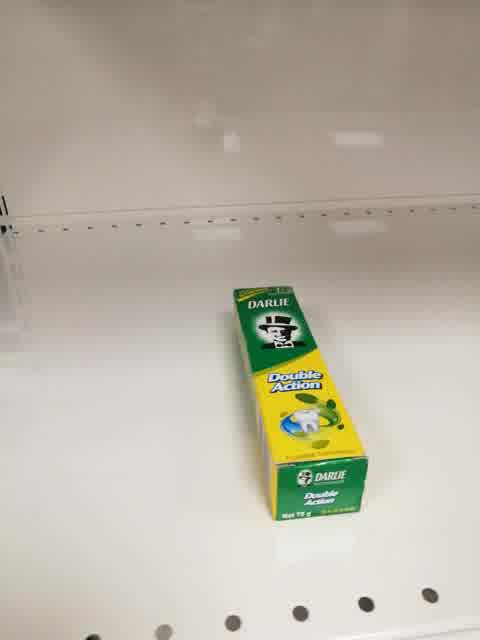toothpaste: (231, 285, 369, 522)
